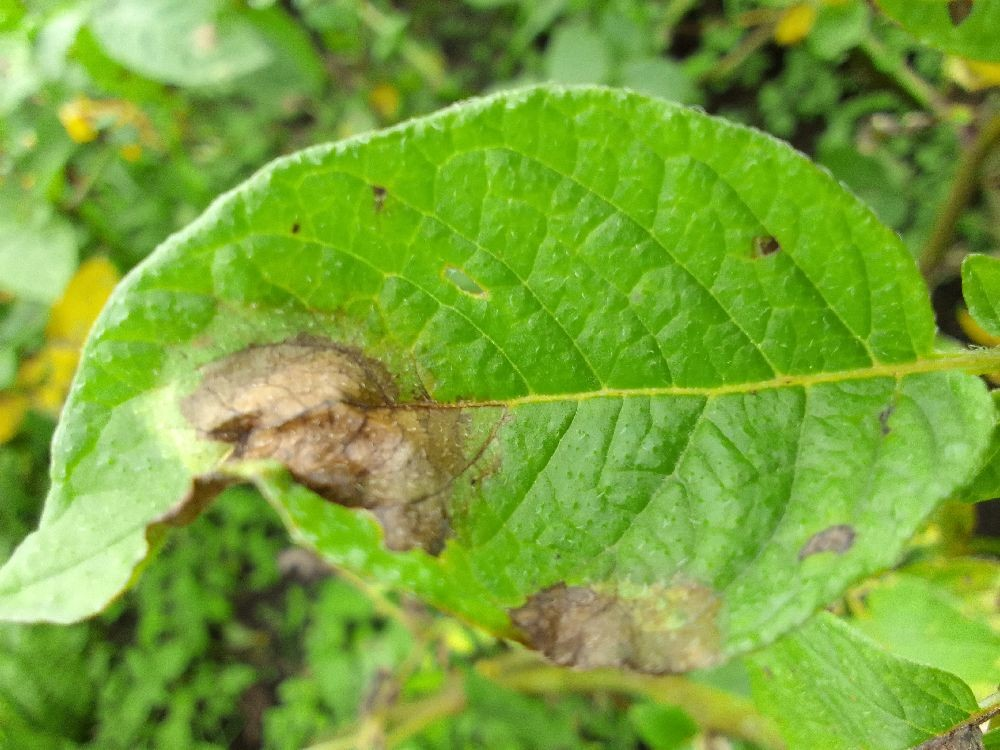late_blight: (142, 317, 487, 571), (801, 17, 1000, 383), (468, 556, 737, 707), (188, 521, 359, 750)
